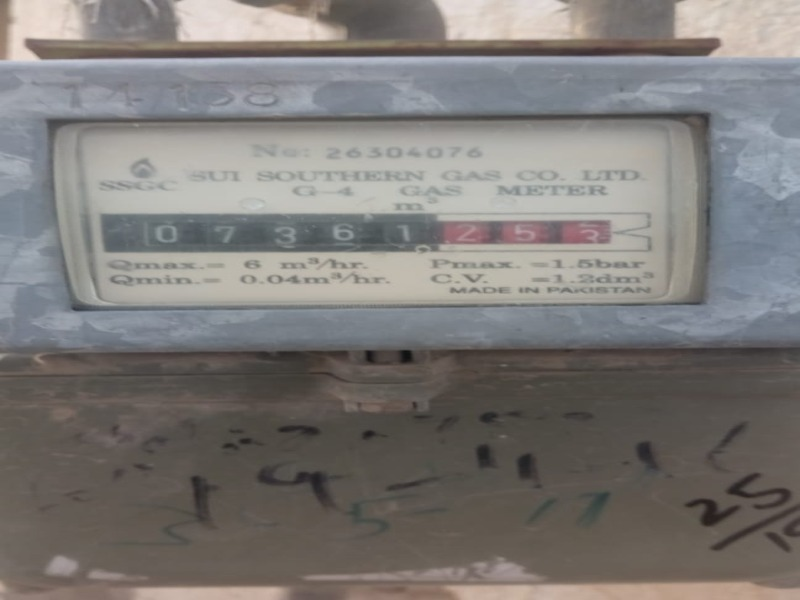ssgc: (119, 214, 635, 253)
